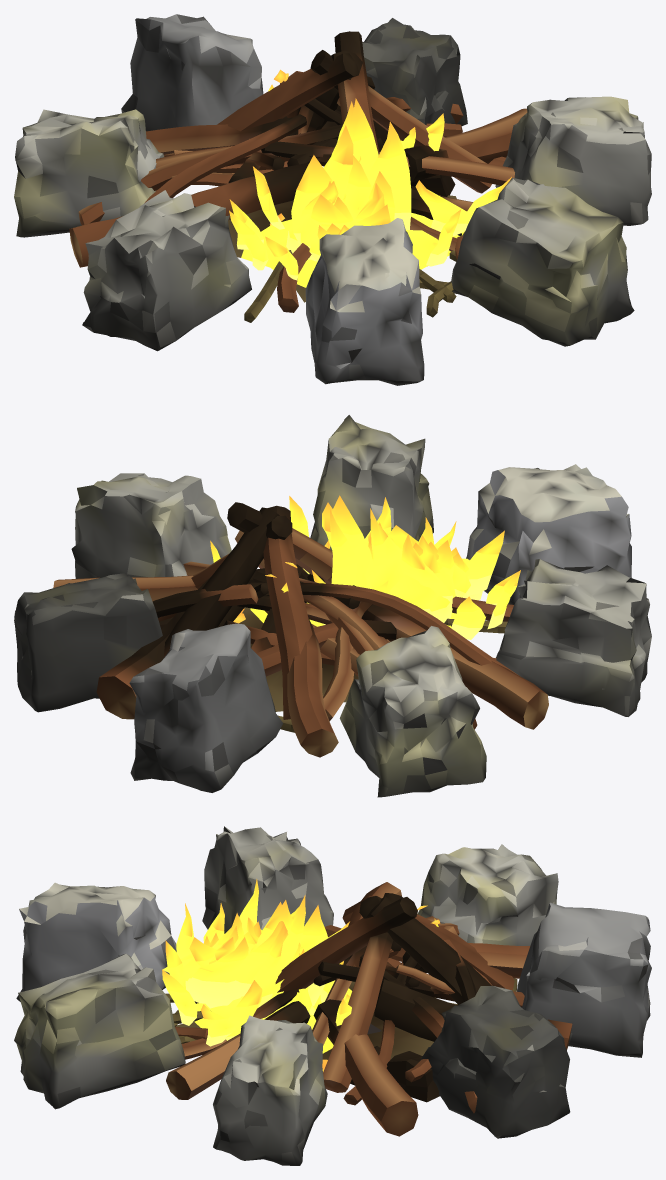
Rendered from ZONFIRE.glb.
The picture shows the model from 3 angles, top to bottom: view 1: azimuth 30°, elevation 25°; view 2: azimuth 150°, elevation 25°; view 3: azimuth 270°, elevation 25°; orthographic projection. The views are drawn at different scales.
Parts seen in each view (by area): view 1: ZONFIRE; view 2: ZONFIRE; view 3: ZONFIRE.
Part boxes in pixels (left/top/right/bottom): ZONFIRE: left=14, top=14, right=651, bottom=385; ZONFIRE: left=14, top=415, right=651, bottom=797; ZONFIRE: left=14, top=826, right=651, bottom=1165.
Size of the model in its own units: 3.36 by 1.03 by 3.55.
